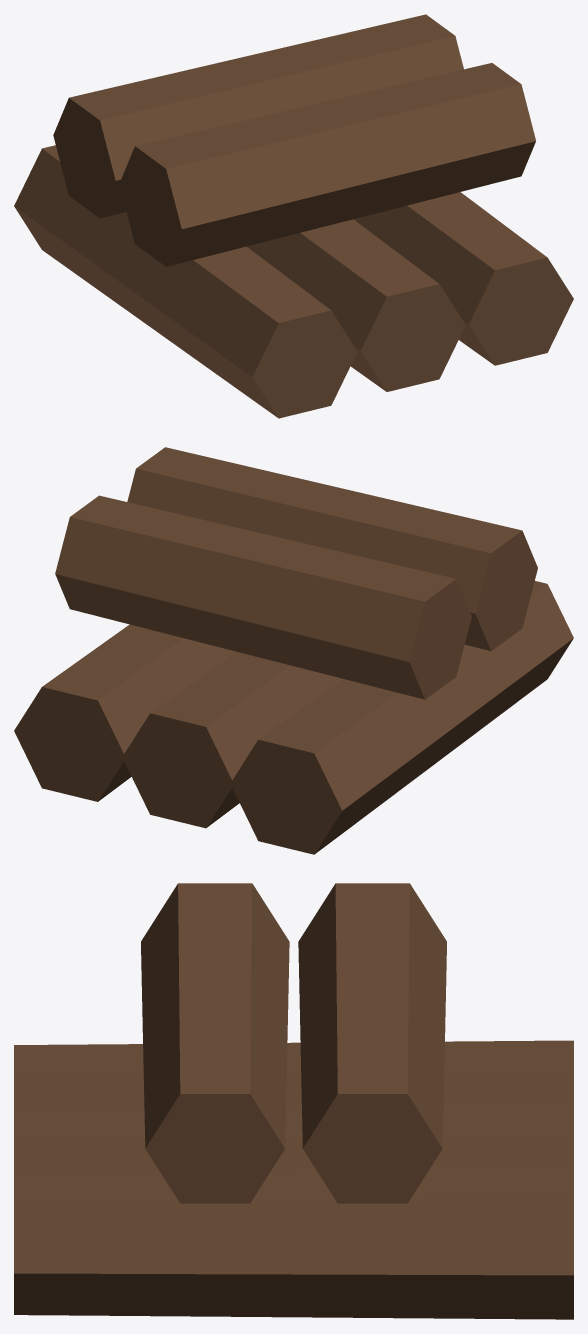
Rendered from firewood.fbx.
3 views of the same model, one above another, from view 1: azimuth 30°, elevation 25°; view 2: azimuth 150°, elevation 25°; view 3: azimuth 270°, elevation 25° (orthographic). The views are drawn at different scales.
Parts seen in each view (by area): view 1: Firewood; view 2: Firewood; view 3: Firewood.
Boxes of the visible parts, x1,y1,x2,y2 form: Firewood: (14, 14, 573, 418); Firewood: (14, 447, 573, 854); Firewood: (14, 883, 573, 1319).
Bounding box in the file's own units: 0.56 × 0.3198 × 0.64.
